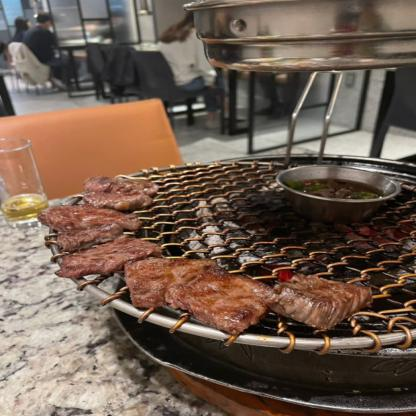Carne: (126, 253, 278, 327), (272, 274, 382, 330), (45, 230, 161, 282), (32, 203, 138, 250), (67, 173, 159, 212)
